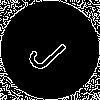J: (25, 25, 76, 75)
